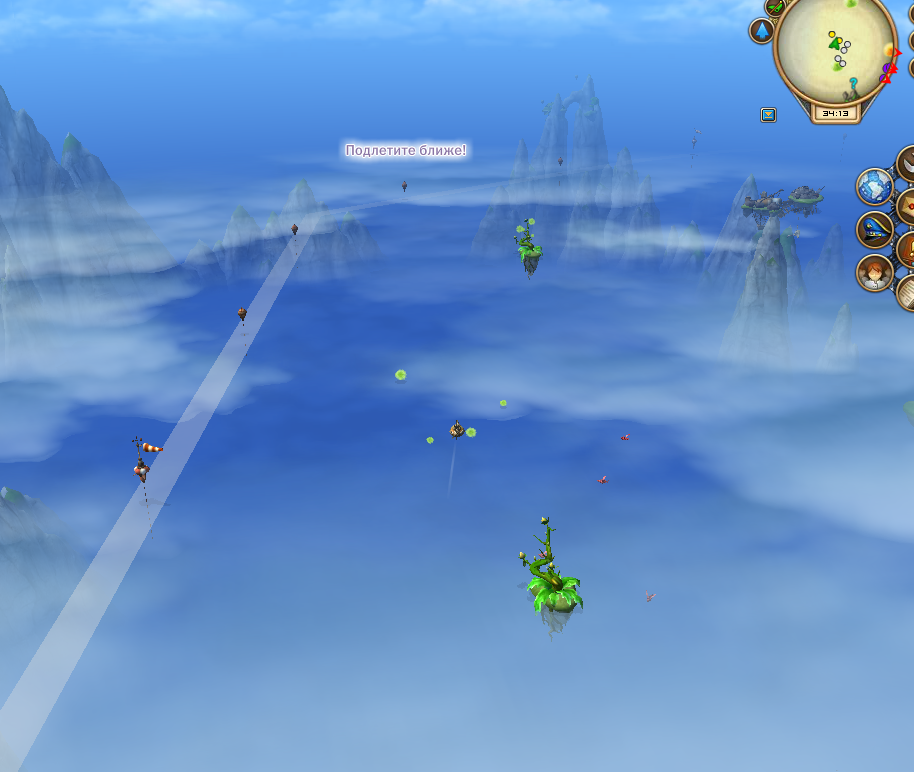dandelion-empty: (514, 511, 586, 620)
dandelion-full: (509, 213, 547, 273)
fluff: (461, 422, 480, 440), (391, 365, 407, 385), (497, 397, 510, 409), (425, 435, 434, 444)
